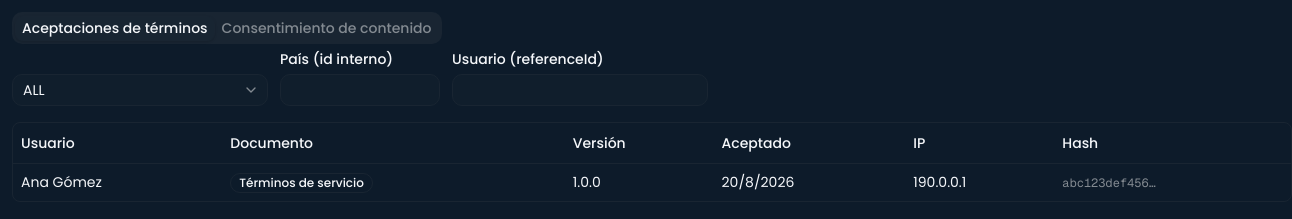
Test: ConsentAuditTabs › cambia a la pestaña de consentimiento de contenido al hacer clic
This screenshot has width=1292, height=219.
Expected: the text "Ana Gómez" is shown, [13,163,222,200]
What coordinates should you click on to do the following:
click the tab "Consentimiento de contenido"
I would click on:
 (327, 28)
Its box is [215,16,438,40].
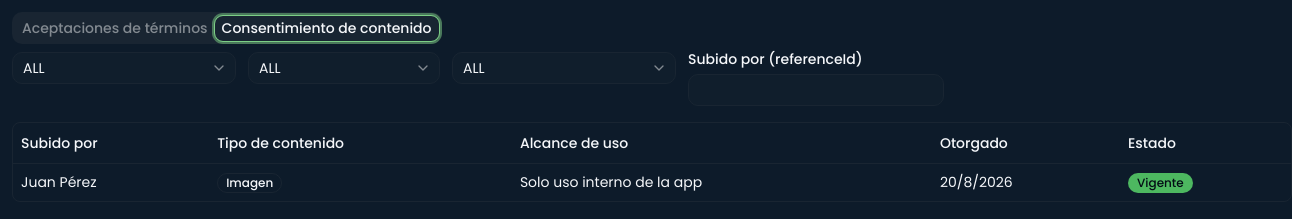
Expected: the text "Juan Pérez" is shown, [13,163,209,200]
